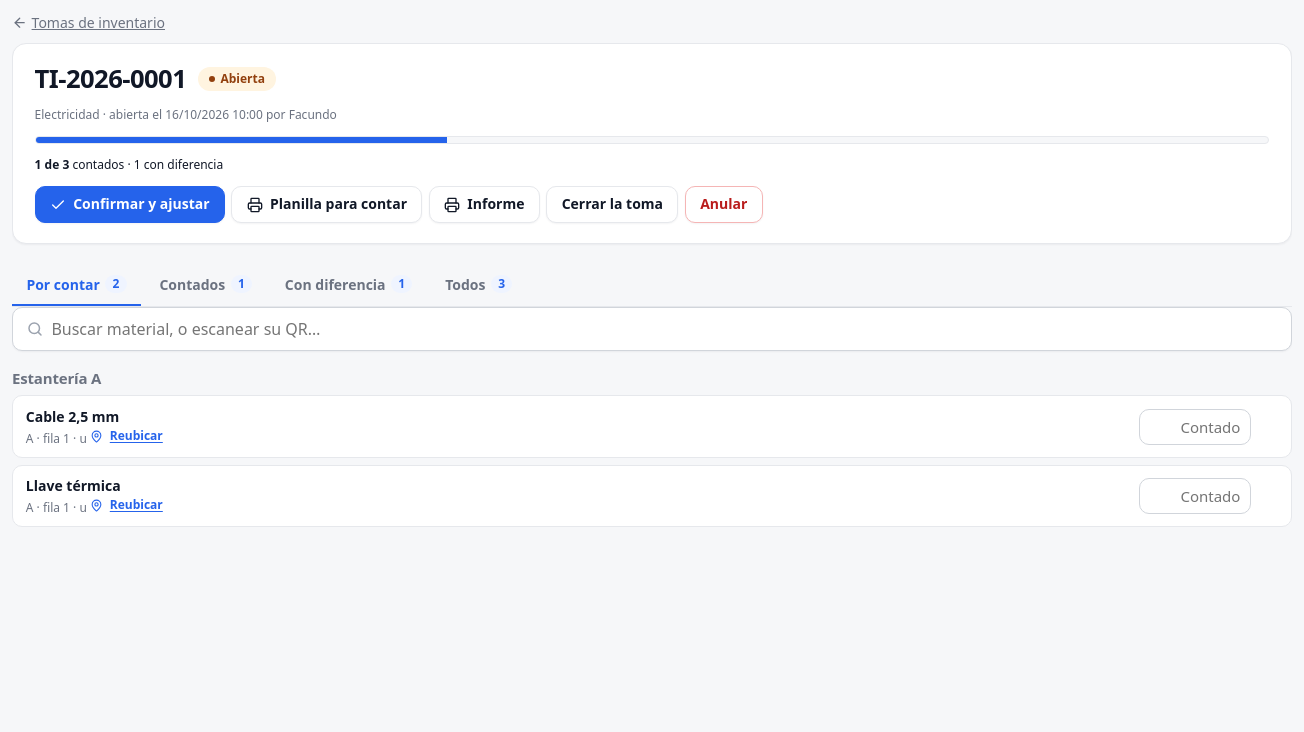
TomaInventarioPage › en «Con diferencia» se ve cuánto figuraba y cuánto falta
The image size is (1304, 732).
Click the tab "Con diferencia 1": (349, 285) [270,264,427,306]
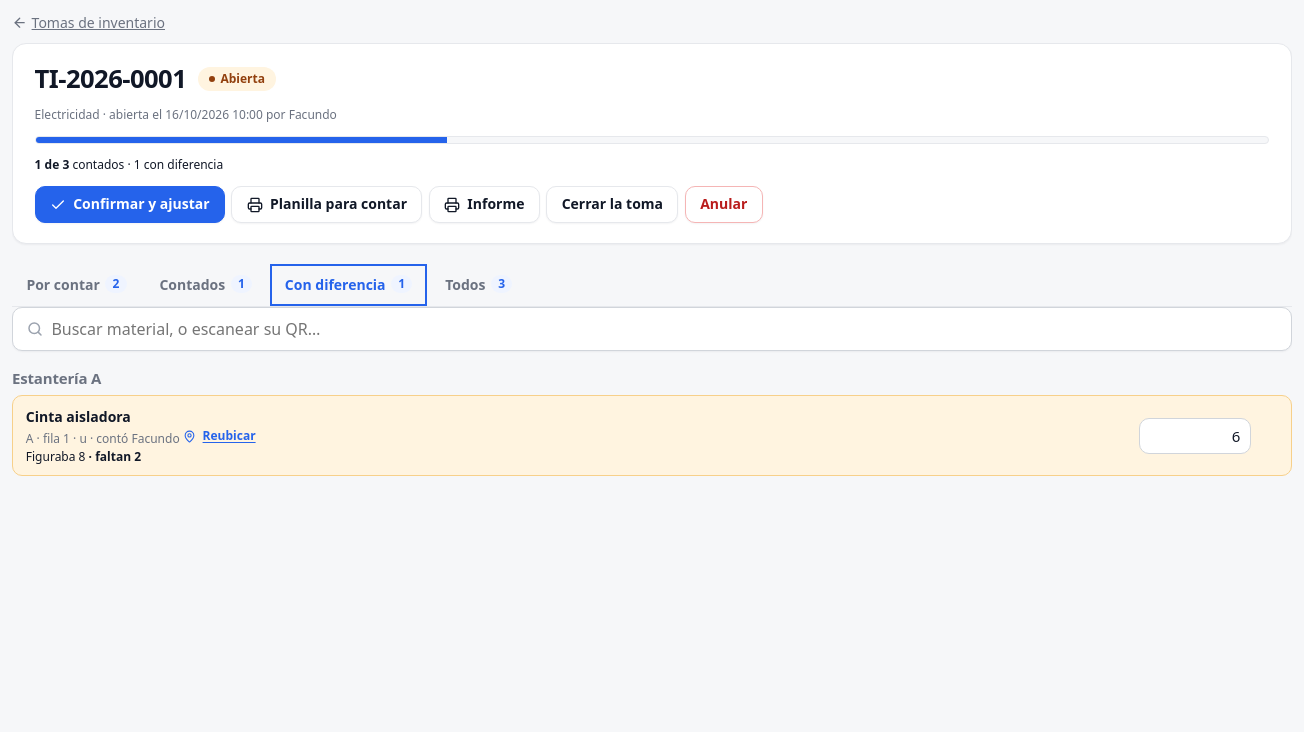
Result: the text "Figuraba 8 · faltan 2" is shown at [26,448,141,464]
Result: the text "· faltan 2" is shown at [86,448,141,464]
